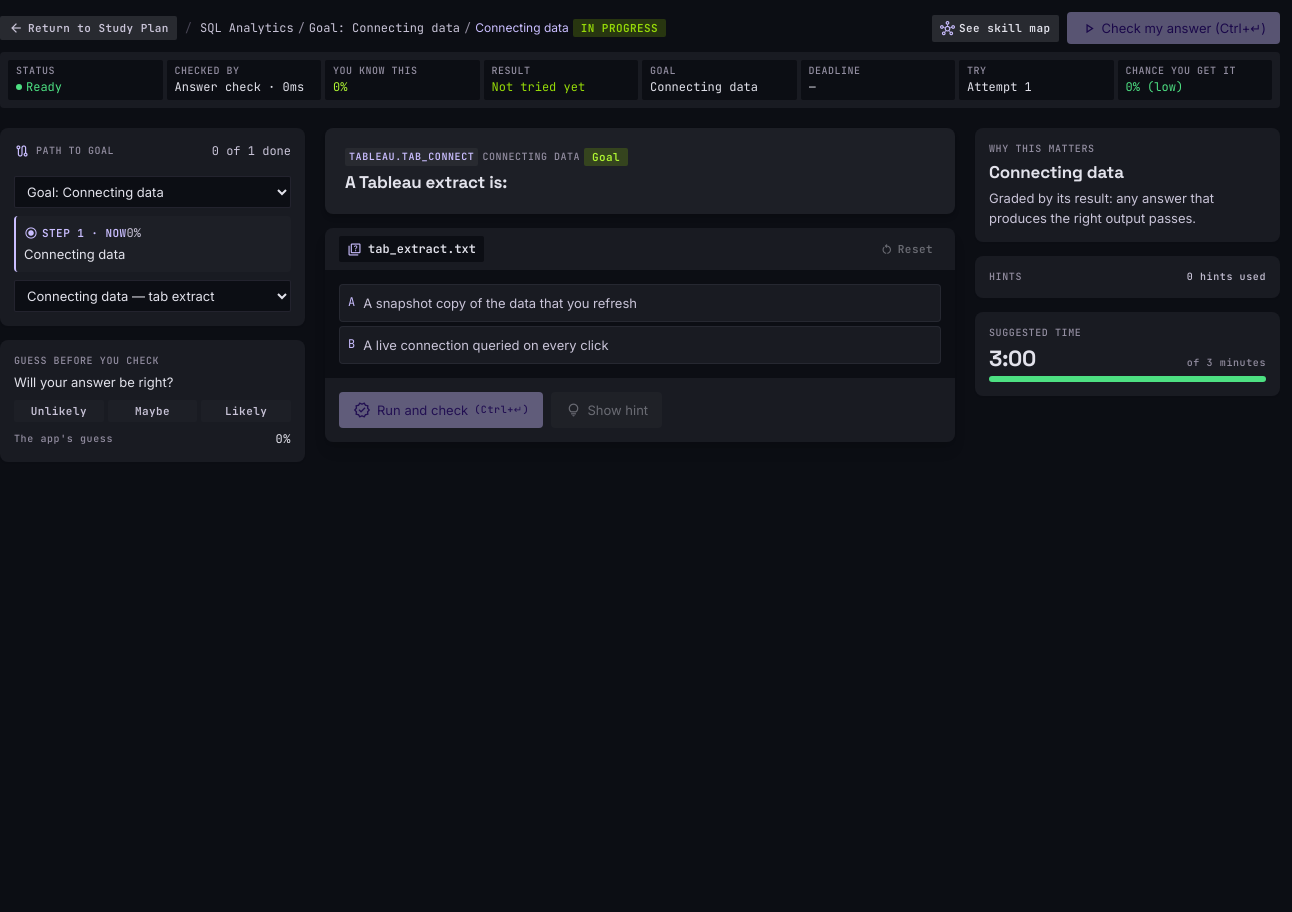
practice lab beyond SQL › a multiple-choice task submits the picked option
The width and height of the screenshot is (1292, 912).
Step 1. Click the radio button labelled "A A snapshot copy of the data that you refresh" → {"x": 500, "y": 303}, box [339, 284, 941, 322]
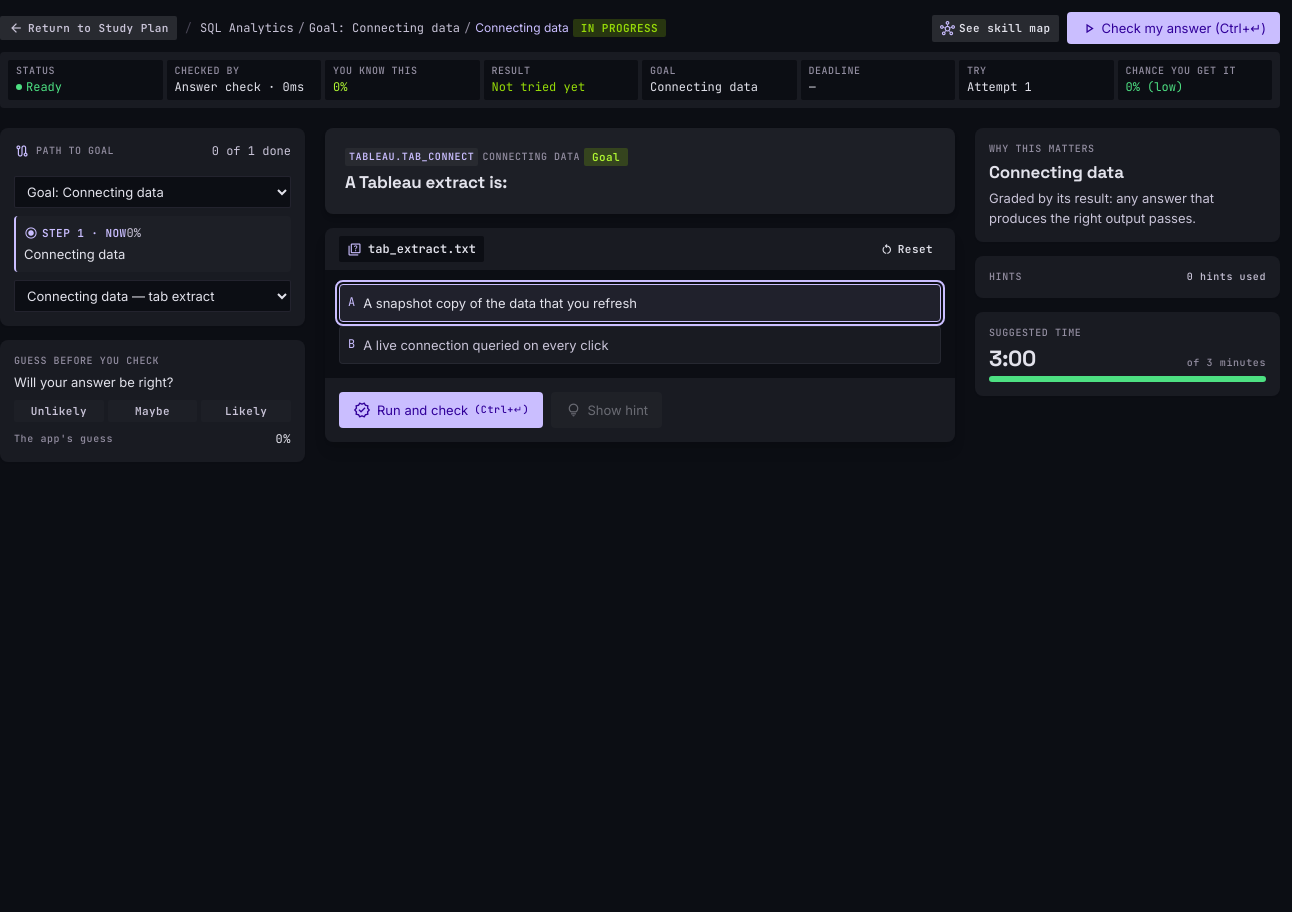
Step 2. Click the button "Run and check (Ctrl+↵)" → {"x": 441, "y": 410}, box [339, 392, 543, 428]
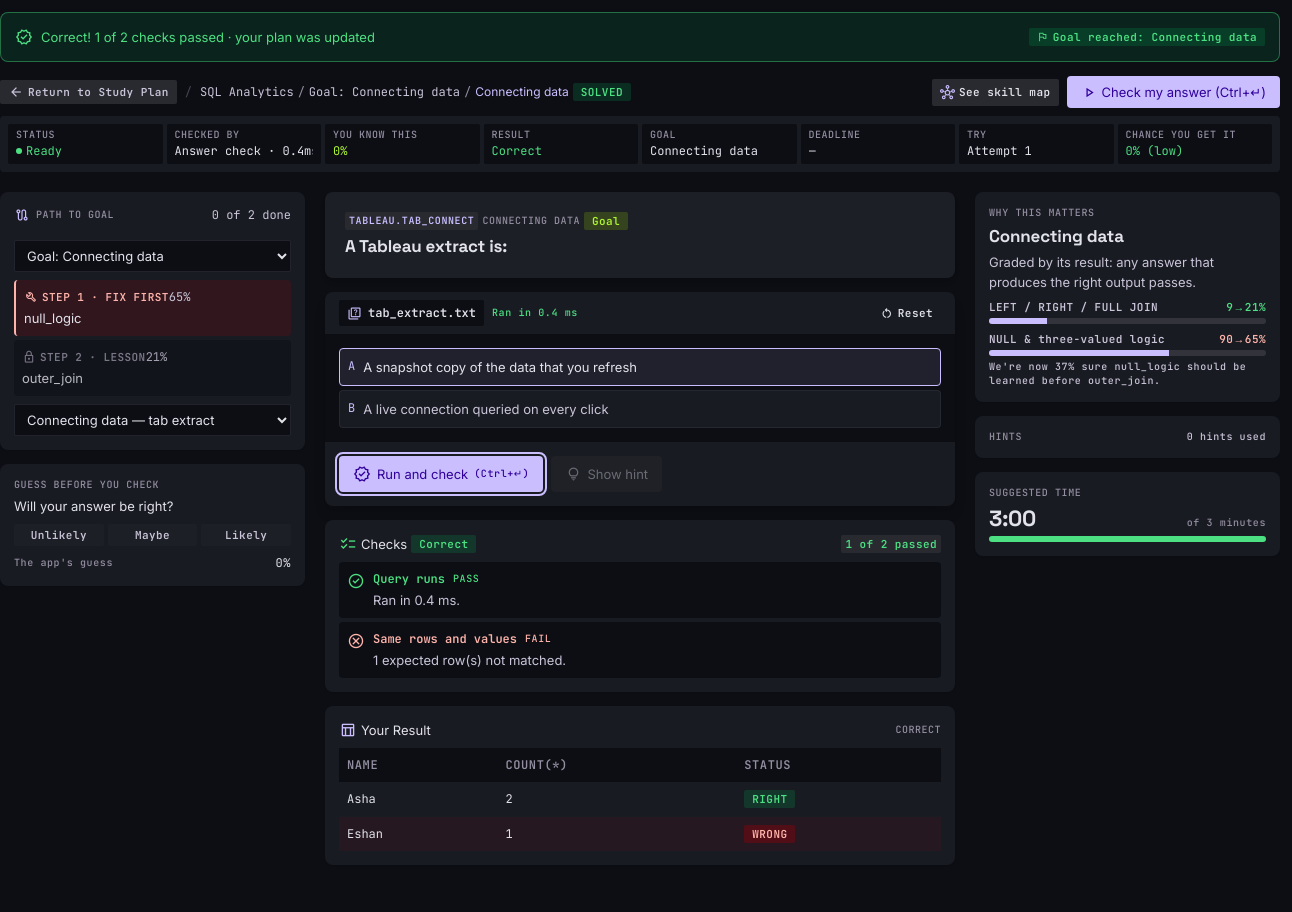
Expected: the text "A snapshot copy of the data that you refresh" is shown, [363, 357, 637, 377]
Result: the text "Correct! 1 of 2 checks passed · your plan was updated" is shown at [15, 27, 375, 47]
